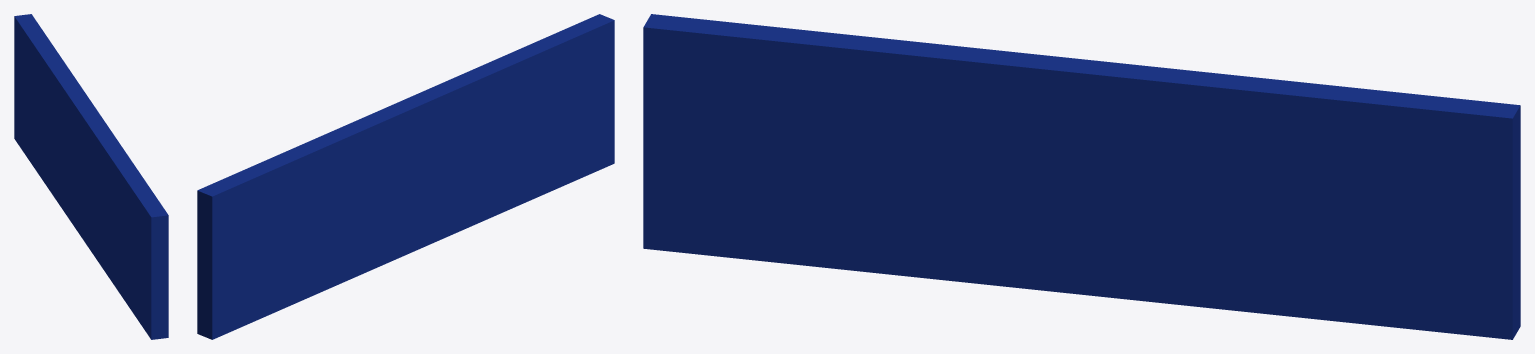
The model's file is sign_kupecheskiy.lod.glb.
The picture shows the model from 3 angles, left to right: view 1: azimuth 30°, elevation 25°; view 2: azimuth 150°, elevation 25°; view 3: azimuth 270°, elevation 25°; orthographic projection. The views are drawn at different scales.
Parts seen in each view (by area): view 1: sign_kupecheskiy_blue; view 2: sign_kupecheskiy_blue; view 3: sign_kupecheskiy_blue.
Boxes of the visible parts, bbox=[...] form: sign_kupecheskiy_blue: bbox=[14, 14, 168, 339]; sign_kupecheskiy_blue: bbox=[197, 14, 614, 339]; sign_kupecheskiy_blue: bbox=[643, 14, 1520, 339].
Bounding box in the file's own units: 0.6079 × 0.6 × 2.15.
